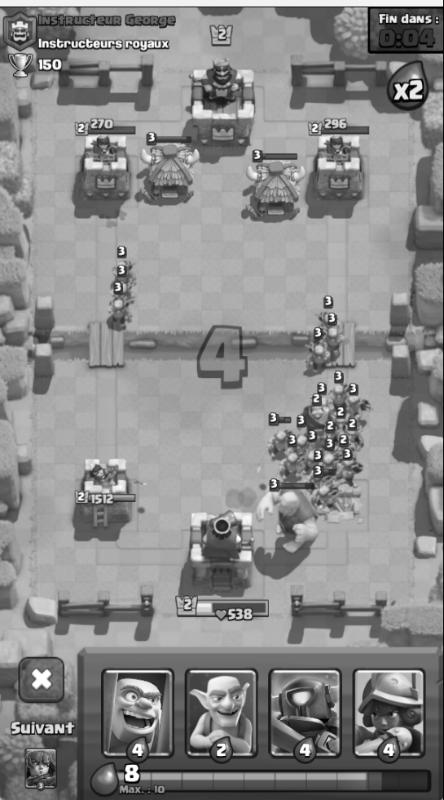chevalier: (298, 403, 333, 435)
geant: (256, 478, 320, 553)
gobelin: (318, 418, 341, 448), (346, 423, 365, 455), (331, 412, 350, 436), (336, 437, 349, 461)
gobelin_lances: (264, 428, 292, 462), (313, 478, 339, 514), (319, 325, 345, 359), (304, 342, 331, 374), (108, 296, 132, 331), (342, 457, 365, 490), (109, 281, 136, 308), (315, 307, 342, 333), (276, 453, 302, 480), (111, 258, 134, 284), (349, 388, 366, 423), (330, 380, 347, 413), (307, 468, 328, 492), (314, 393, 335, 415), (304, 449, 322, 472), (293, 432, 307, 460), (321, 450, 334, 476)
